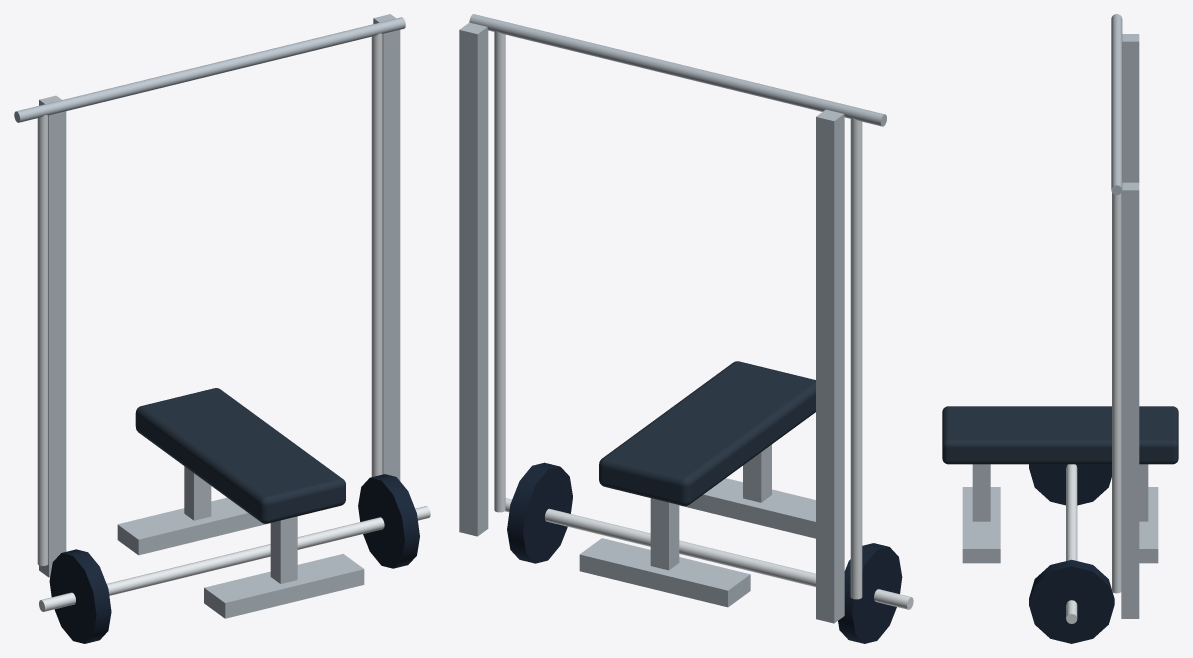
The model's file is smith_bench.glb.
The picture shows the model from 3 angles, left to right: view 1: azimuth 30°, elevation 25°; view 2: azimuth 150°, elevation 25°; view 3: azimuth 270°, elevation 25°; orthographic projection. The views are drawn at different scales.
Parts seen in each view (by area): view 1: smithUpright (×2), seat, smithGuide (×2), benchFoot (×2), barbell_plate (×2), smithCross, barbell, benchLeg (×2); view 2: smithUpright (×2), seat, smithGuide (×2), benchFoot (×2), barbell_plate (×2), smithCross, barbell, benchLeg (×2); view 3: seat, smithUpright (×2), barbell_plate (×2), smithGuide, benchFoot (×2), smithCross, benchLeg (×2), barbell.
Boxes of the visible parts, <box> form: smithUpright (×2): <box>39,14,400,577</box>; seat: <box>135,388,345,523</box>; smithGuide (×2): <box>37,33,382,565</box>; benchFoot (×2): <box>117,497,364,618</box>; barbell_plate (×2): <box>49,474,419,643</box>; smithCross: <box>14,17,405,122</box>; barbell: <box>39,506,430,611</box>; benchLeg (×2): <box>184,466,297,583</box>; smithUpright (×2): <box>459,22,844,623</box>; seat: <box>599,361,815,506</box>; smithGuide (×2): <box>494,31,862,599</box>; benchFoot (×2): <box>579,478,815,607</box>; barbell_plate (×2): <box>507,462,902,643</box>; smithCross: <box>469,14,886,126</box>; barbell: <box>505,498,913,609</box>; benchLeg (×2): <box>650,444,771,570</box>; seat: <box>942,406,1178,464</box>; smithUpright (×2): <box>1121,34,1139,618</box>; barbell_plate (×2): <box>1029,464,1114,643</box>; smithGuide: <box>1112,193,1121,593</box>; benchFoot (×2): <box>962,487,1158,563</box>; smithCross: <box>1111,14,1122,194</box>; benchLeg (×2): <box>972,464,1148,521</box>; barbell: <box>1066,464,1077,623</box>.
Bounding box in the file's own units: 1.8 × 2.31 × 1.05.
